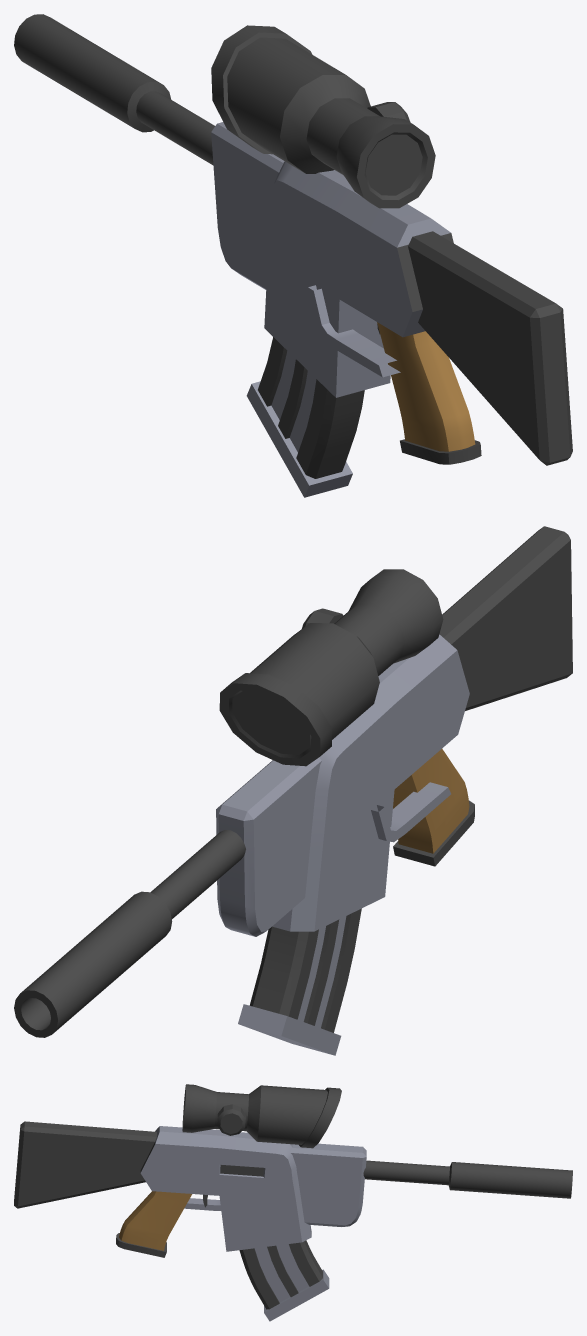
The model's file is sniper.glb.
3 views of the same model, one above another, from view 1: azimuth 30°, elevation 25°; view 2: azimuth 150°, elevation 25°; view 3: azimuth 270°, elevation 25° (orthographic). The views are drawn at different scales.
Parts seen in each view (by area): view 1: Baked_Sniper_2; view 2: Baked_Sniper_2; view 3: Baked_Sniper_2.
Boxes of the visible parts, x1,y1,x2,y2 form: Baked_Sniper_2: [14, 14, 572, 497]; Baked_Sniper_2: [14, 526, 572, 1055]; Baked_Sniper_2: [14, 1084, 572, 1321].
Size of the model in its own units: 0.1199 by 0.4854 by 1.08.
